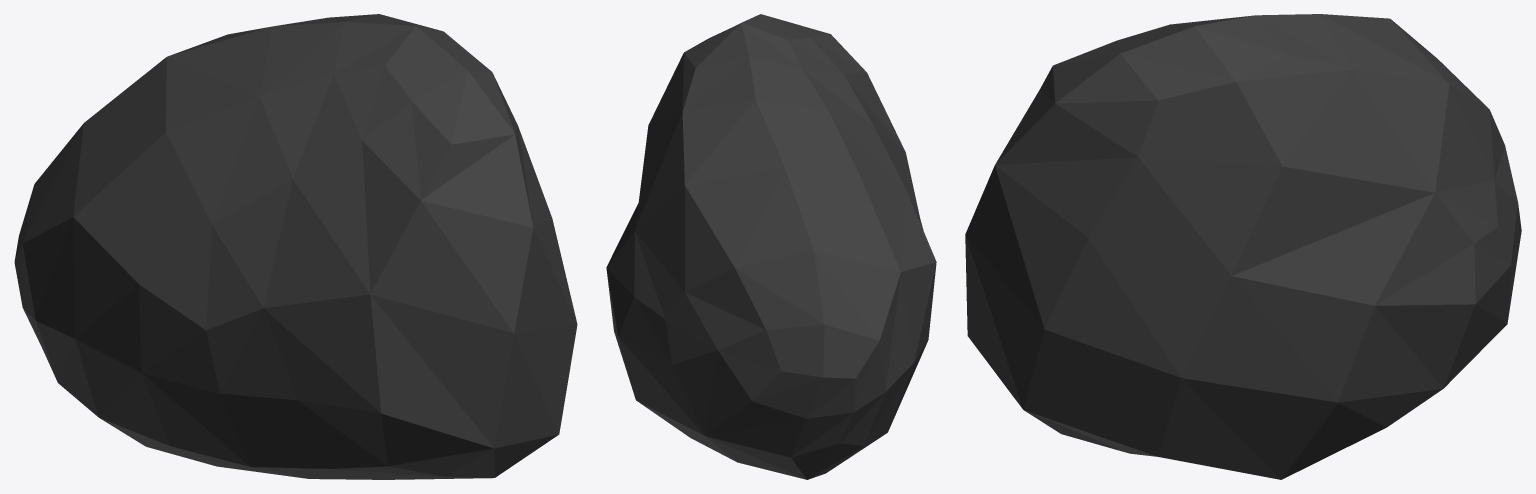
Rendered from LFL_carpal2.glb.
3 views of the same model, side by side, from view 1: azimuth 30°, elevation 25°; view 2: azimuth 150°, elevation 25°; view 3: azimuth 270°, elevation 25° (orthographic). The views are drawn at different scales.
Parts seen in each view (by area): view 1: LFL_carpal2; view 2: LFL_carpal2; view 3: LFL_carpal2.
Boxes of the visible parts, box(x1,y1,x2,y2) form: LFL_carpal2: box(14, 14, 577, 479); LFL_carpal2: box(606, 14, 936, 479); LFL_carpal2: box(965, 14, 1521, 479).
Bounding box in the file's own units: 3.9 × 4.41 × 4.9.
Materials: 1 (1 with a texture image).
